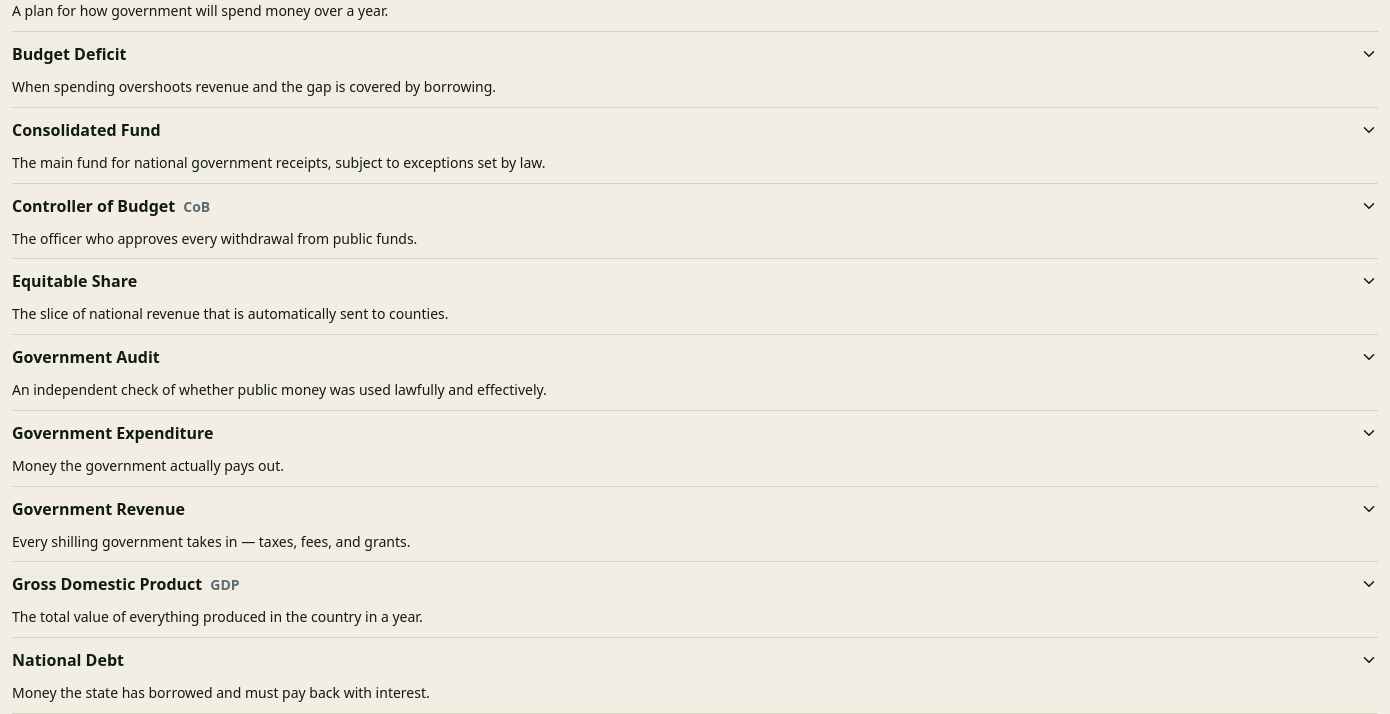
Test case: explains who receives and acts on government audit reports
(page scrolled)
Expected: the text "public money was used lawfully and effectively" is shown, [12,380,547,399]
Step 1. Click the button "Government Audit" → (86, 357), box [12,335,1378,379]
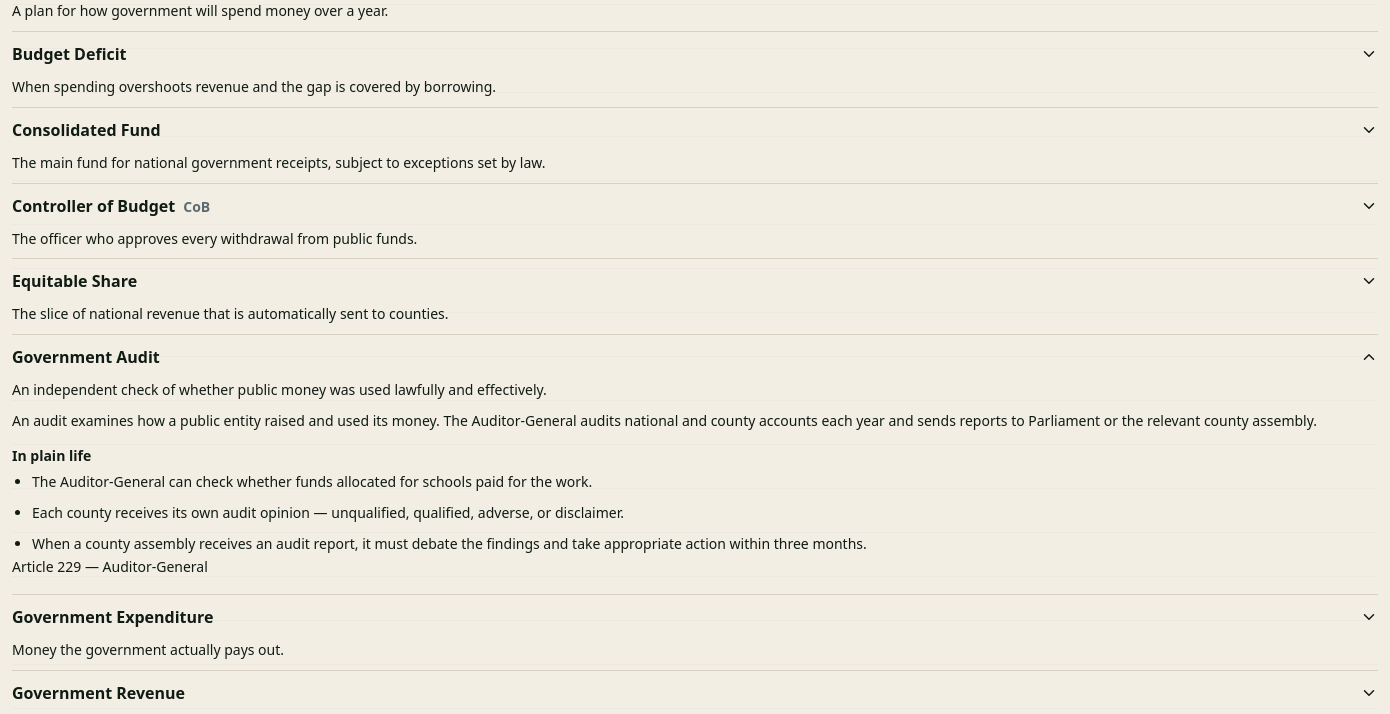
Expected: the text "sends reports to Parliament or the relevant county assembly" is shown, [12,411,1317,430]
